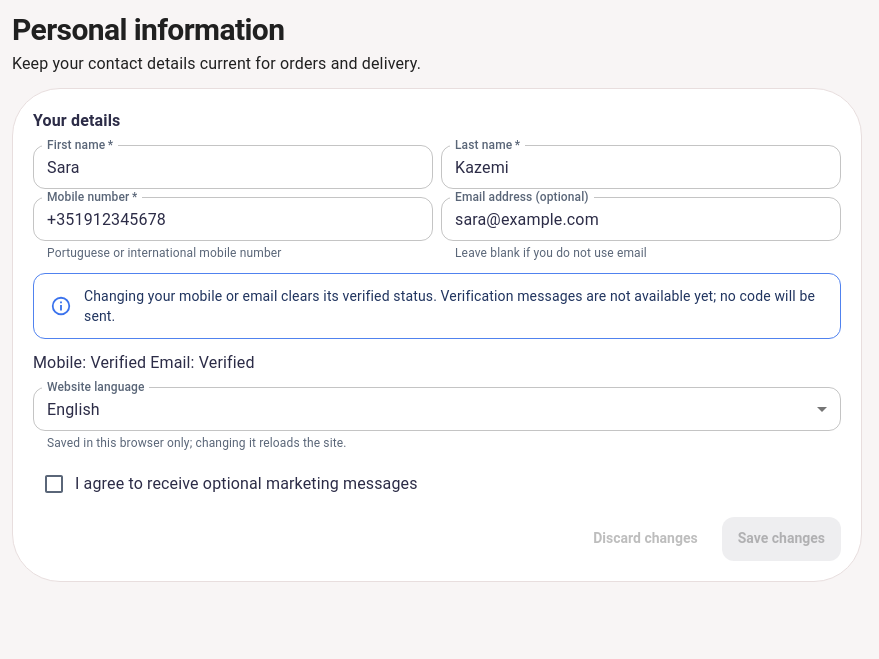
Test case: customer information form › shows a safe conflict message without claiming a save
Replace the text in the field labelled "Email address (optional)" with "used@example.com" at (641, 219), box [441,199,841,239]
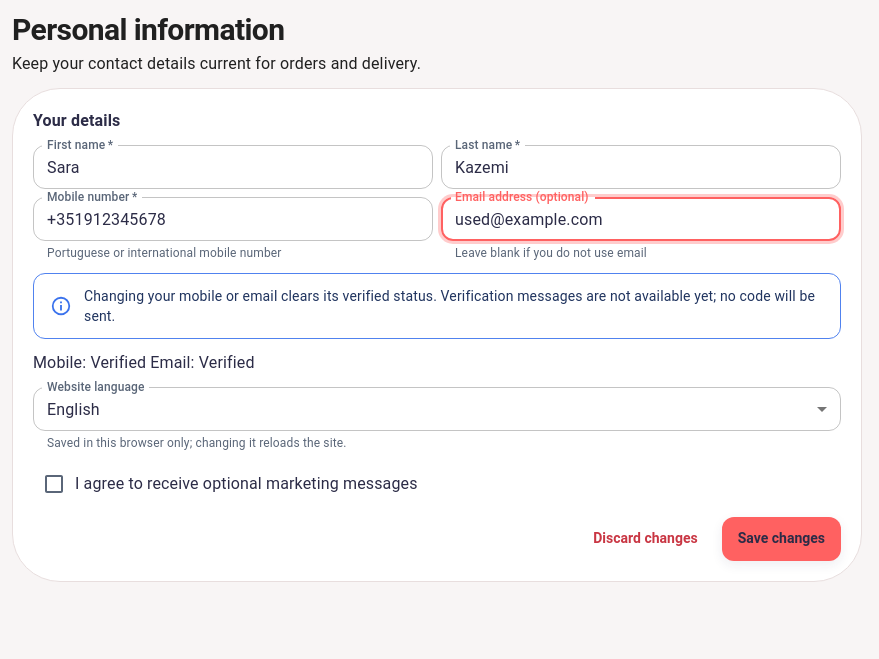
Click the button "Save changes" at (781, 539), box [722,517,841,561]
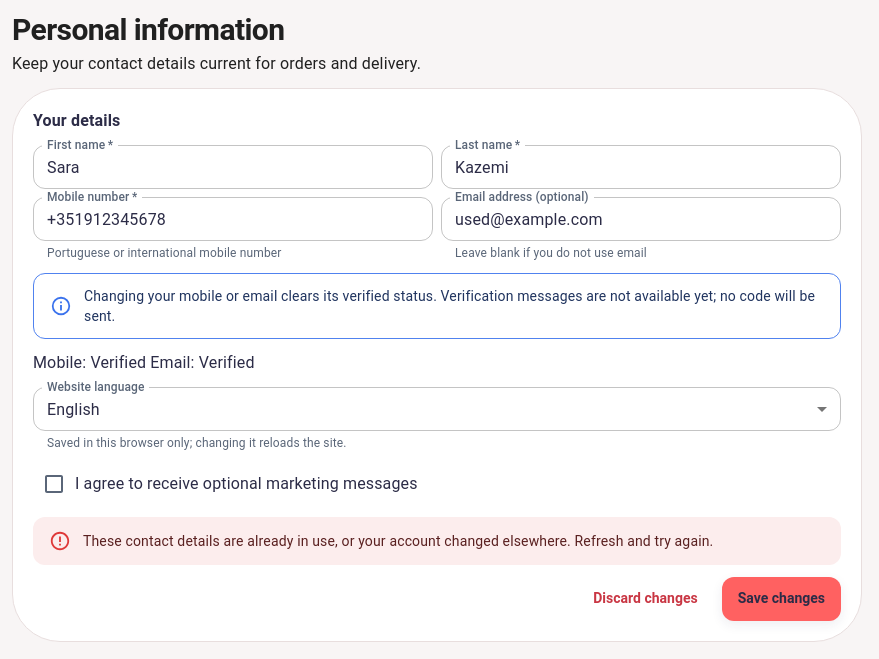
expect the text "These contact details are already in use" is shown: met, box [83,533,713,549]
